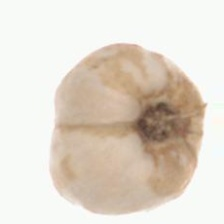L4: (50, 43, 205, 216)
